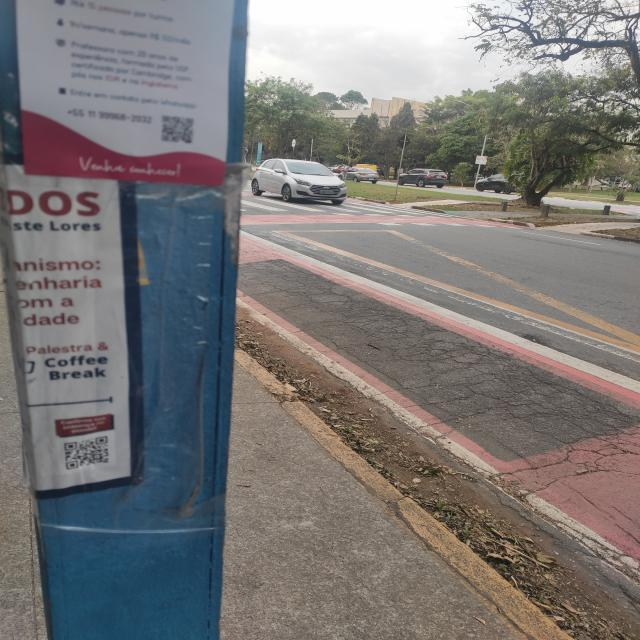qrcode: (66, 437, 109, 471), (163, 117, 194, 144)
